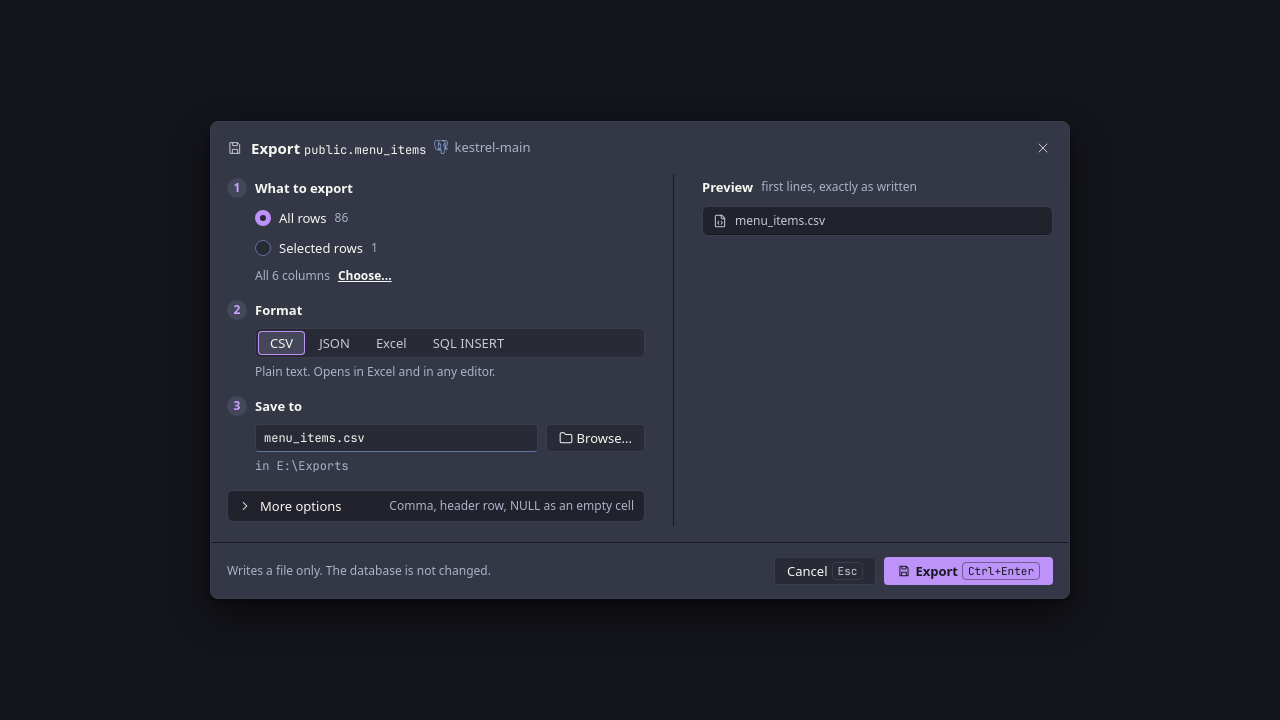
Test: an_excel_preview_shows_the_sheet
The width and height of the screenshot is (1280, 720).
Click the radio button labelled "Excel" at (391, 343), box x1=364 y1=331 x2=419 y2=355
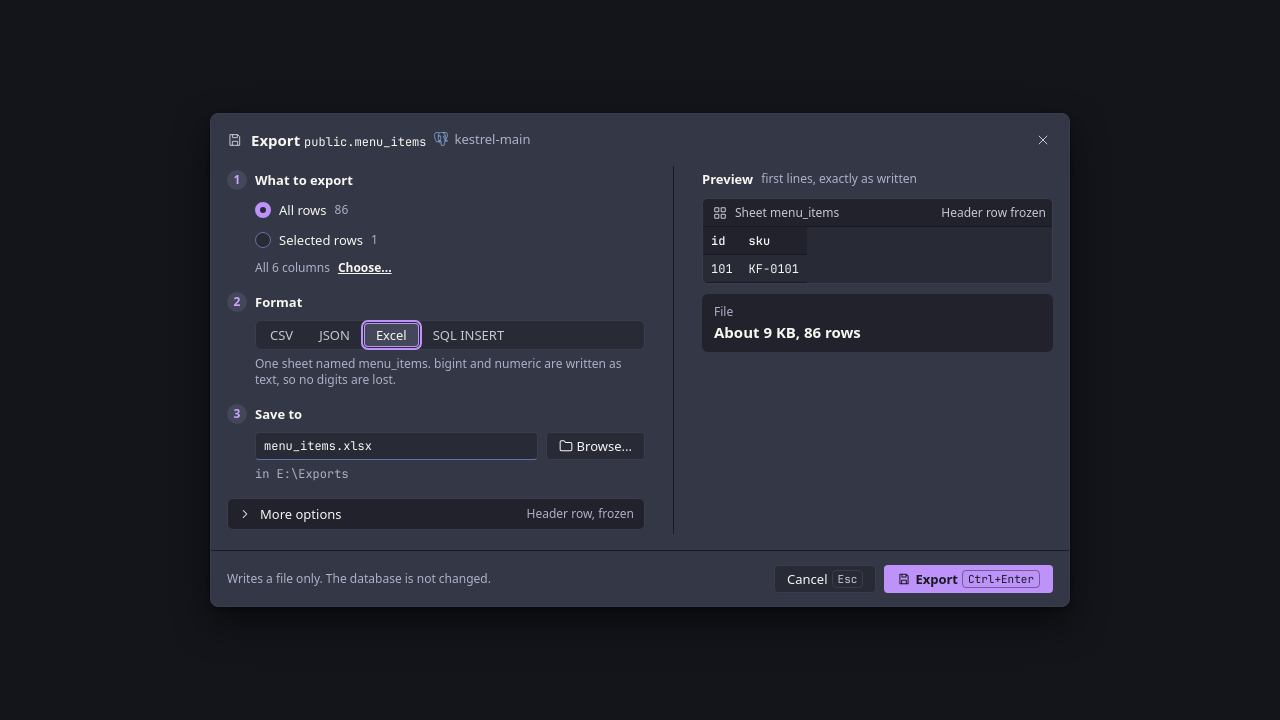
Expected: the text "KF-0101" is shown, x1=741 y1=255 x2=807 y2=283
Expected: the text "One sheet named menu_items. bigint and numeric are written as text, so no digits are lost." is shown, x1=255 y1=355 x2=622 y2=388
